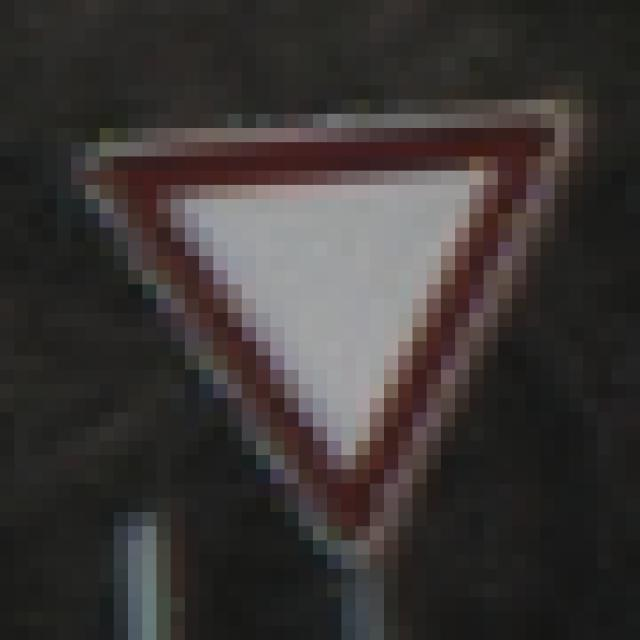Give Way: (72, 86, 570, 556)
